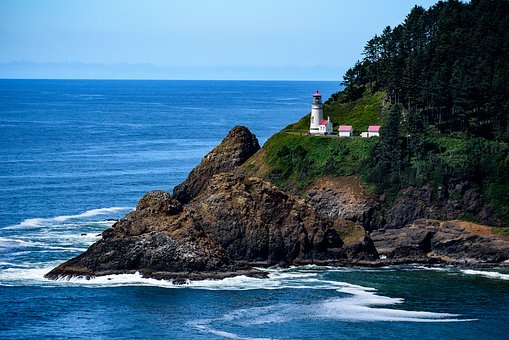mountain: (201, 20, 508, 270)
sea: (3, 81, 491, 340)
sky: (1, 3, 366, 74)
